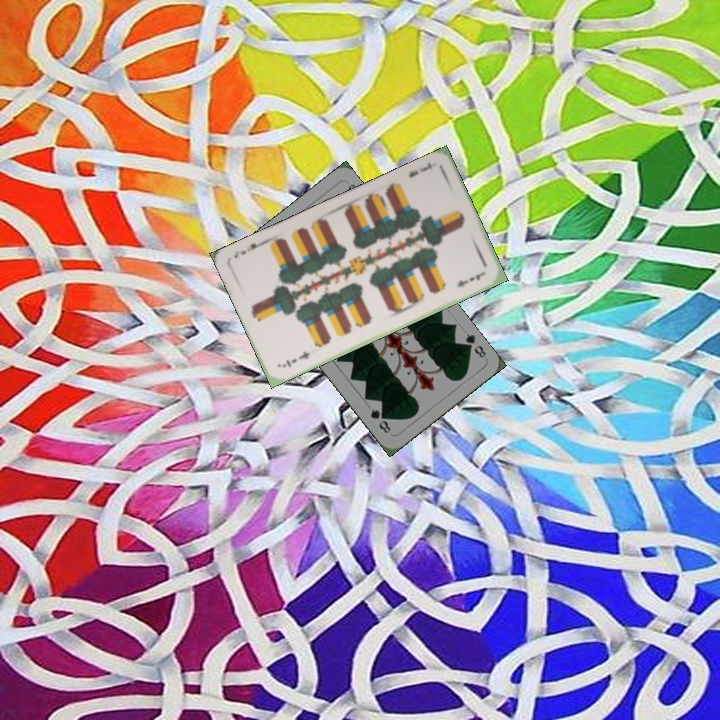E7: (278, 347, 313, 370), (405, 158, 435, 180)
G8: (459, 329, 489, 361)
